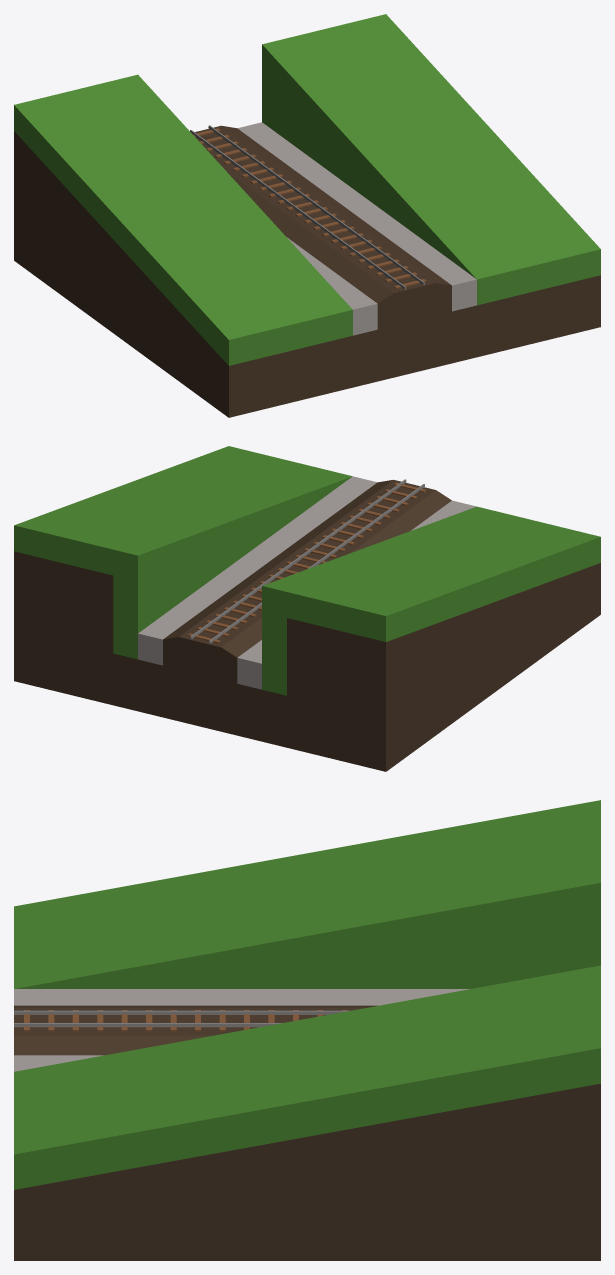
File: tiles_tile-rail-tunnel-entrance.fbx
3 views of the same model, one above another, from view 1: azimuth 30°, elevation 25°; view 2: azimuth 150°, elevation 25°; view 3: azimuth 270°, elevation 25° (orthographic). The views are drawn at different scales.
Visible parts, largest first — view 1: tiles_tile_rail_tunnel_entrance; view 2: tiles_tile_rail_tunnel_entrance; view 3: tiles_tile_rail_tunnel_entrance.
Boxes of the visible parts, <box> form: tiles_tile_rail_tunnel_entrance: <box>14,14,600,417</box>; tiles_tile_rail_tunnel_entrance: <box>14,446,600,771</box>; tiles_tile_rail_tunnel_entrance: <box>14,800,600,1260</box>.
Bounding box in the file's own units: 200 × 80 × 200.
